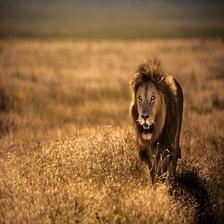Lion: (119, 61, 192, 187)
